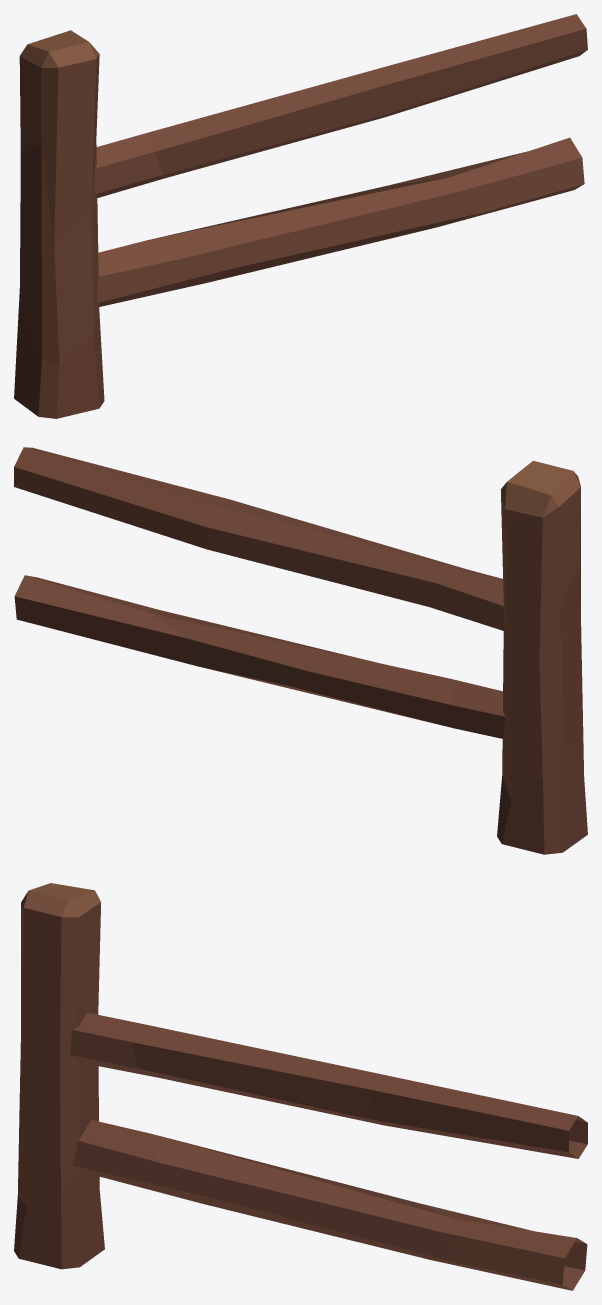
The model's file is fence_log_half_2.fbx.
3 views of the same model, one above another, from view 1: azimuth 30°, elevation 25°; view 2: azimuth 150°, elevation 25°; view 3: azimuth 330°, elevation 25° (orthographic).
Parts seen in each view (by area): view 1: fence_log_half_2; view 2: fence_log_half_2; view 3: fence_log_half_2.
Part boxes in pixels (left/top/right/bottom): fence_log_half_2: left=14, top=14, right=587, bottom=418; fence_log_half_2: left=14, top=447, right=587, bottom=854; fence_log_half_2: left=14, top=883, right=587, bottom=1290.
Bounding box in the file's own units: 110 × 69.03 × 13.26.
